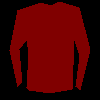abbigliamento_uomo: (9, 1, 90, 93)
